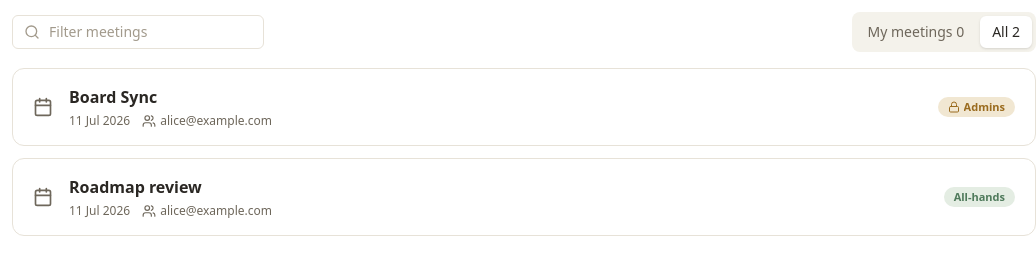
Test: MeetingList filter › says so when the filter hides everything
This screenshot has width=1036, height=253.
Type "zzz" into the search field labelled "Filter meetings". click: (138, 32)
box: [12,15,264,49]
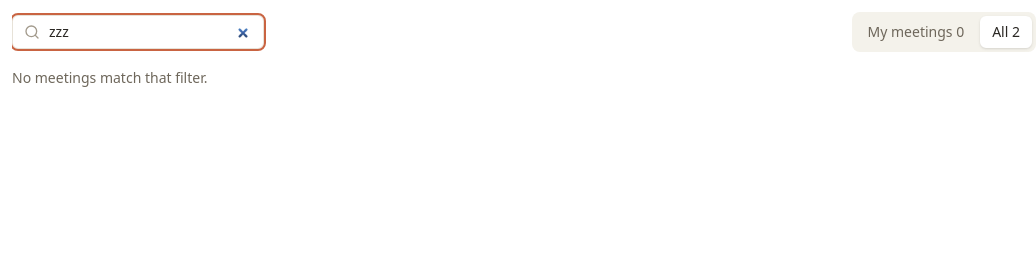
Expected: the text "No meetings match that filter." is shown, [12,68,208,87]
